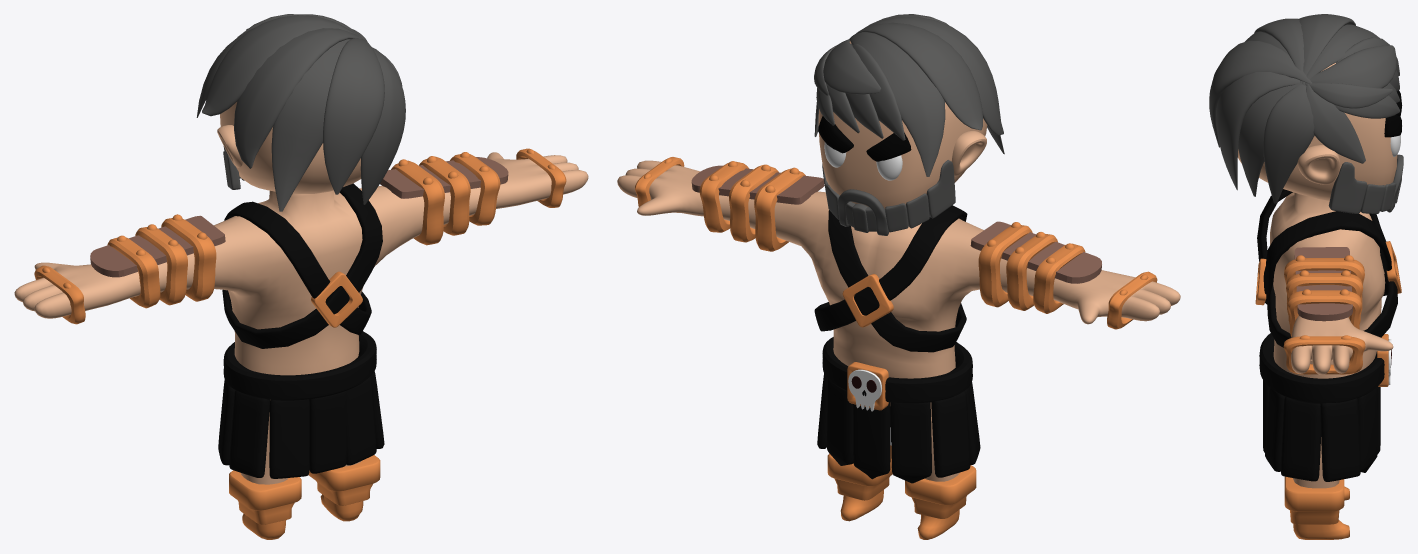
Rendered from Villano.fbx.
The picture shows the model from 3 angles, left to right: view 1: azimuth 30°, elevation 25°; view 2: azimuth 150°, elevation 25°; view 3: azimuth 270°, elevation 25°; orthographic projection.
Parts seen in each view (by area): view 1: Cube.002, NurbsPath.008, Cube.004, brazal, brazal2, BezierCircle.001, Torus.005, BezierCircle, Cube, Cube.021, Cube.003, Cube.022 (+3 smaller); view 2: Cube.002, NurbsPath.008, Cube.004, brazal, Cube, brazal2, BezierCircle, BezierCircle.001, Torus.005, Cube.021, Cube.003, craneo (+10 smaller); view 3: NurbsPath.008, Cube.002, Cube.004, brazal, Torus.005, Cube, BezierCircle.001, Cube.022, BezierCircle, manopla2, Cube.016, Cube.009 (+7 smaller).
Boxes of the visible parts, x1,y1,x2,y2 form: Cube.002: [14, 152, 588, 539]; NurbsPath.008: [196, 14, 405, 211]; Cube.004: [218, 371, 384, 478]; brazal: [380, 152, 508, 245]; brazal2: [107, 214, 216, 308]; BezierCircle.001: [222, 183, 382, 348]; Torus.005: [223, 331, 376, 400]; BezierCircle: [224, 201, 371, 334]; Cube: [220, 102, 360, 193]; Cube.021: [229, 470, 301, 524]; Cube.003: [90, 215, 225, 277]; Cube.022: [308, 455, 380, 505]; Cube.002: [617, 160, 1180, 539]; NurbsPath.008: [814, 14, 1004, 176]; Cube.004: [817, 373, 980, 483]; brazal: [691, 161, 824, 251]; Cube: [818, 41, 987, 208]; brazal2: [978, 222, 1085, 313]; BezierCircle: [814, 205, 967, 331]; BezierCircle.001: [828, 210, 966, 352]; Torus.005: [822, 337, 972, 403]; Cube.021: [905, 465, 976, 518]; Cube.003: [970, 221, 1101, 283]; craneo: [847, 362, 888, 411]; NurbsPath.008: [1209, 14, 1399, 203]; Cube.002: [1270, 192, 1393, 539]; Cube.004: [1263, 380, 1380, 481]; brazal: [1284, 247, 1364, 336]; Torus.005: [1259, 333, 1384, 403]; Cube: [1238, 63, 1397, 200]; BezierCircle.001: [1263, 211, 1391, 304]; Cube.022: [1284, 476, 1344, 524]; BezierCircle: [1257, 189, 1397, 347]; manopla2: [1283, 335, 1365, 374]; Cube.016: [1328, 162, 1367, 213]; Cube.009: [1297, 145, 1340, 184].
Bounding box in the file's own units: 794 × 688 × 245.
